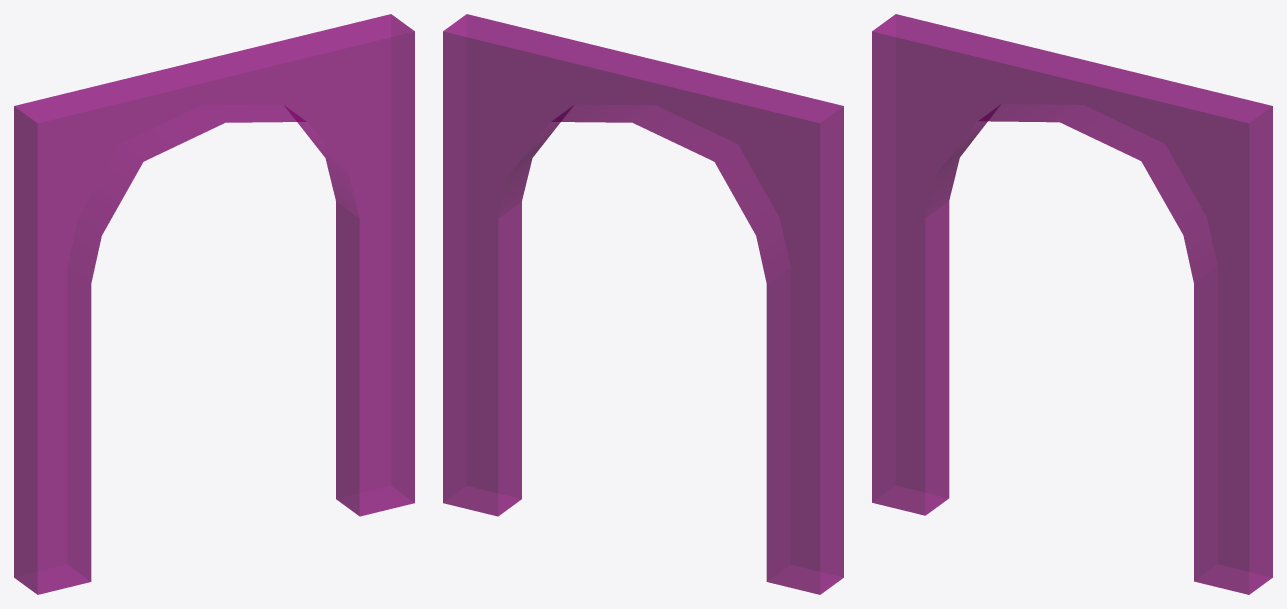
File: SM_Bld_Archway_01_Collision.fbx
3 renders of one model, left to right at view 1: azimuth 30°, elevation 25°; view 2: azimuth 150°, elevation 25°; view 3: azimuth 330°, elevation 25°, orthographic.
Visible parts, largest first — view 1: SM_Bld_Archway_01_Collision; view 2: SM_Bld_Archway_01_Collision; view 3: SM_Bld_Archway_01_Collision.
Boxes of the visible parts, bbox=[...] form: SM_Bld_Archway_01_Collision: bbox=[14, 14, 414, 594]; SM_Bld_Archway_01_Collision: bbox=[443, 14, 843, 594]; SM_Bld_Archway_01_Collision: bbox=[872, 14, 1272, 594].
Bounding box in the file's own units: 253 × 303 × 27.64.
